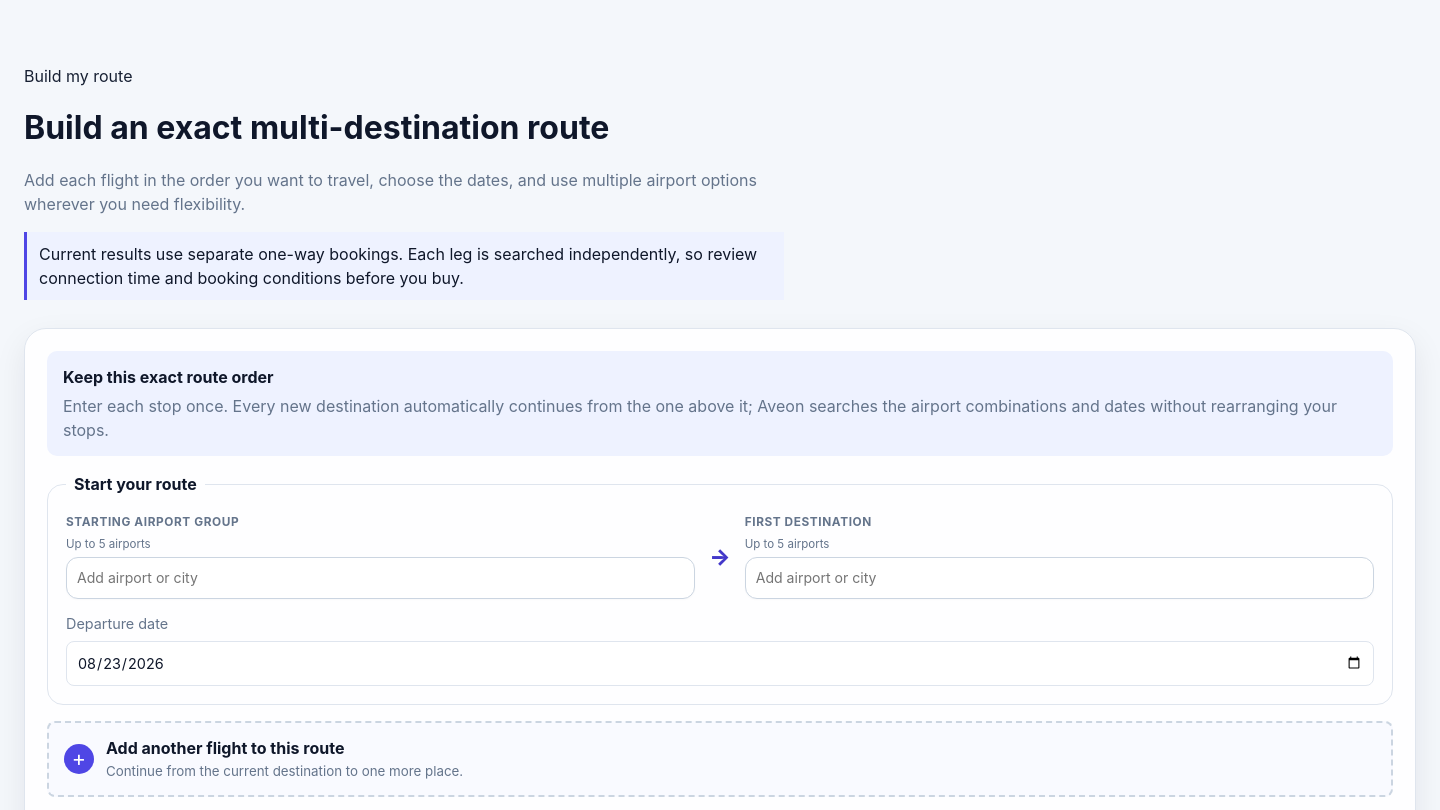
Test case: multi-destination pages › adds only one new airport picker for each connected ordered destination
Expected: the number of "AirportGroupPicker" components is 2, [66,514,695,599]; [745,514,1374,599]
Click the button with class "secondary-action" at (225, 748), box [47,721,1393,797]
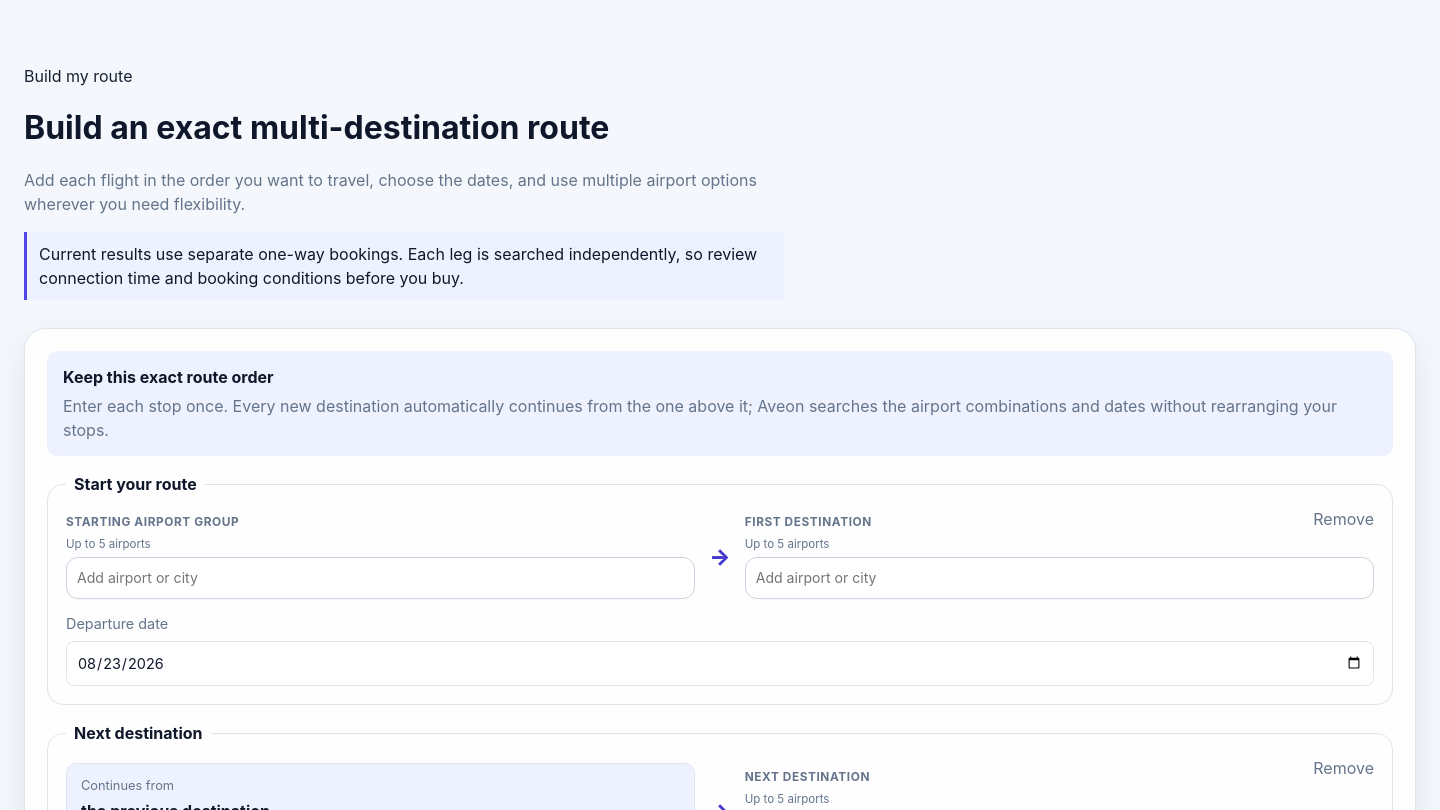
Click the button with aria-label "Remove destination 2" at (1344, 768), box [1307,755,1380,781]
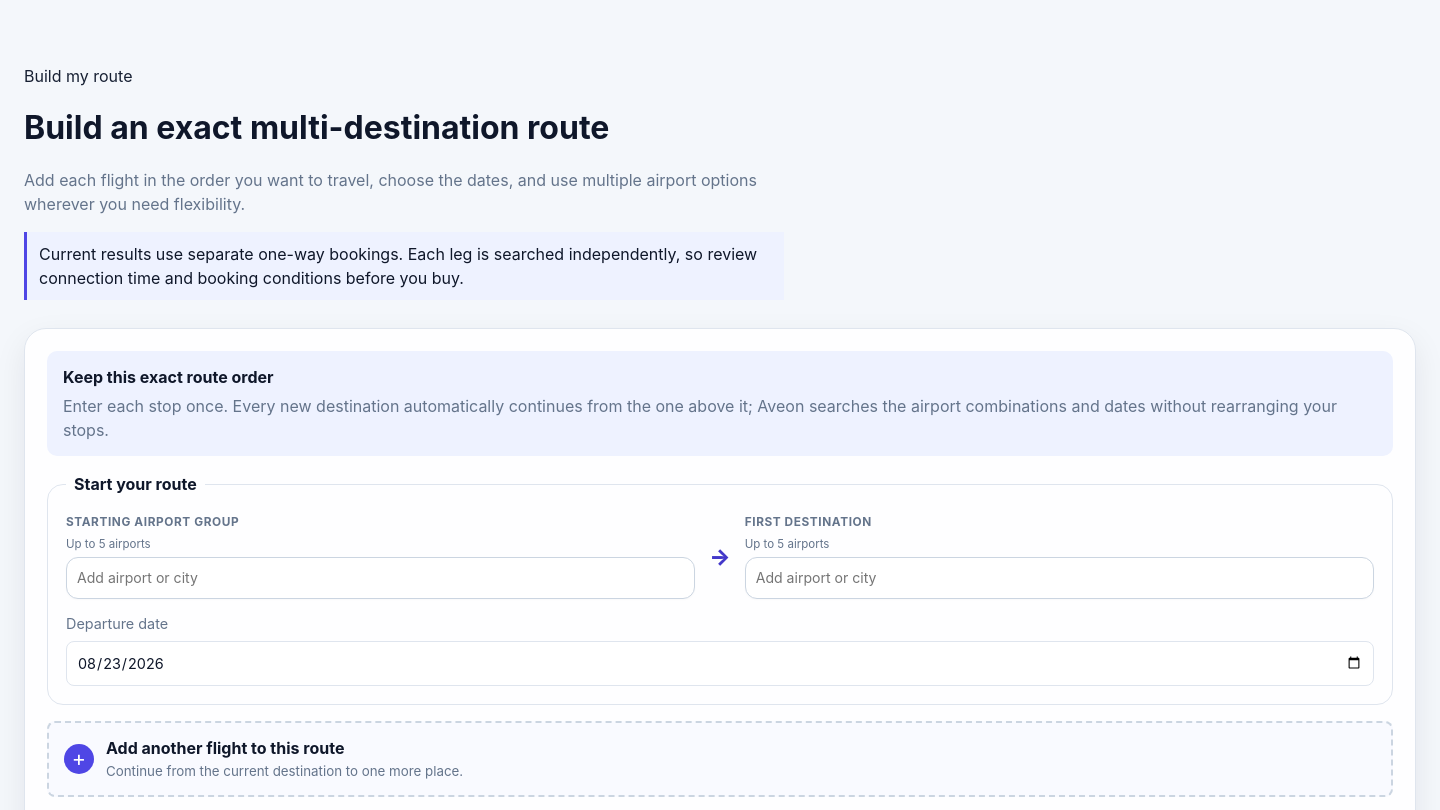
Now the number of "AirportGroupPicker" components is 2, box [66,514,695,599]; [745,514,1374,599]
